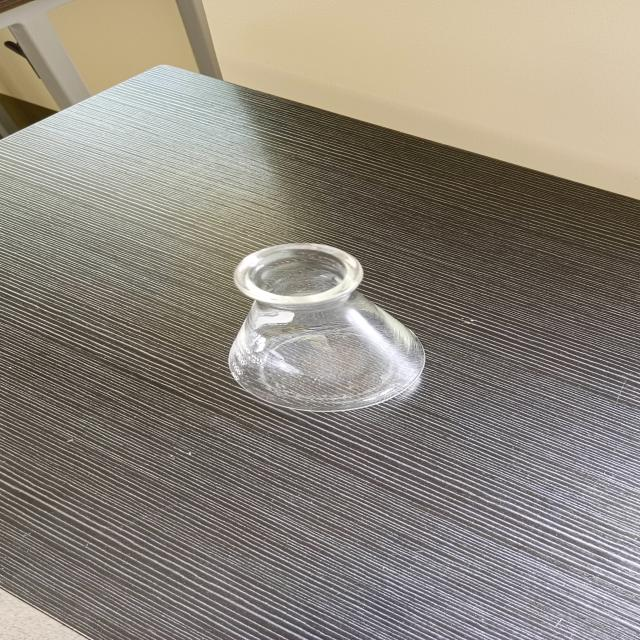erlenmeyer_flask: (203, 240, 440, 416)
